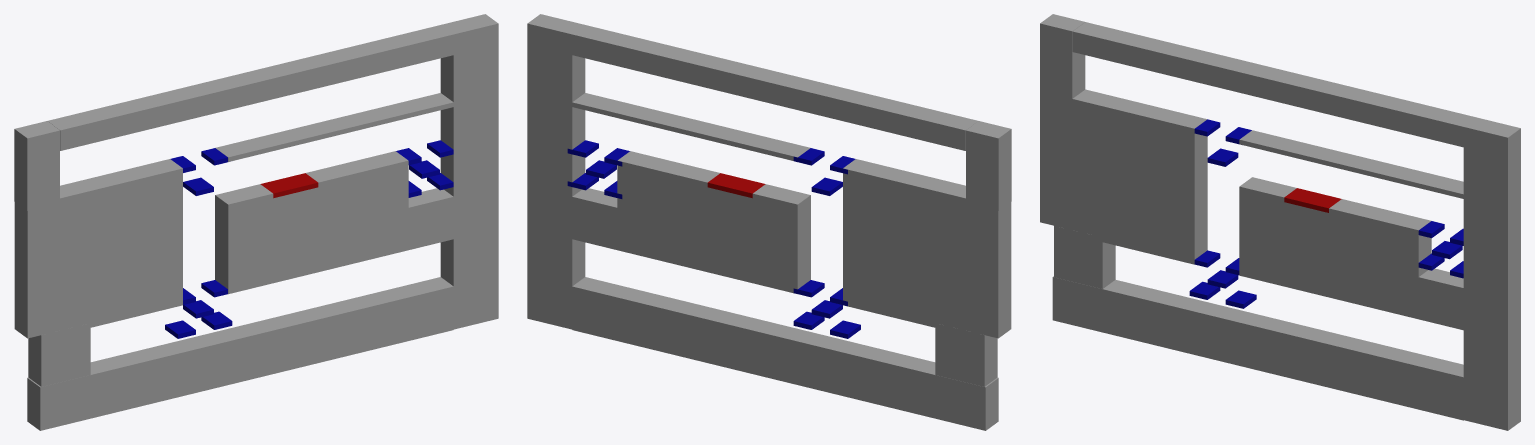
File: levelLayout.obj
3 views of the same model, side by side, from view 1: azimuth 30°, elevation 25°; view 2: azimuth 150°, elevation 25°; view 3: azimuth 330°, elevation 25° (orthographic).
Visible parts, largest first — view 1: Cube.003, Cube, Cube.013, Cube.006, Cube.007, Cube.016, Cube.005, Cube.001, Cube.008, Cube.010, Cube.012, Cube.011 (+3 smaller); view 2: Cube.003, Cube, Cube.013, Cube.006, Cube.007, Cube.016, Cube.005, Cube.001, Cube.008, Cube.010, Cube.014, Cube.012 (+3 smaller); view 3: Cube.003, Cube, Cube.007, Cube.006, Cube.013, Cube.016, Cube.005, Cube.001, Cube.008, Cube.010, Cube.012, Cube.011 (+2 smaller).
Part boxes in pixels (<box>): Cube.003: <box>14,159,182,338</box>; Cube: <box>27,277,453,430</box>; Cube.013: <box>215,166,404,294</box>; Cube.006: <box>47,14,498,150</box>; Cube.007: <box>440,44,498,329</box>; Cube.016: <box>215,93,453,161</box>; Cube.005: <box>14,121,59,210</box>; Cube.001: <box>28,323,90,386</box>; Cube.008: <box>404,188,458,246</box>; Cube.010: <box>305,152,403,187</box>; Cube.012: <box>215,184,273,209</box>; Cube.011: <box>260,173,318,198</box>; Cube.003: <box>843,159,1011,338</box>; Cube: <box>572,277,998,430</box>; Cube.013: <box>621,166,810,294</box>; Cube.006: <box>527,14,978,150</box>; Cube.007: <box>527,39,585,329</box>; Cube.016: <box>572,93,810,160</box>; Cube.005: <box>966,121,1011,210</box>; Cube.001: <box>935,323,997,386</box>; Cube.008: <box>572,188,621,247</box>; Cube.010: <box>622,152,720,187</box>; Cube.014: <box>572,236,793,292</box>; Cube.012: <box>752,184,810,209</box>; Cube.003: <box>1040,89,1207,259</box>; Cube: <box>1052,276,1463,420</box>; Cube.007: <box>1463,147,1520,430</box>; Cube.006: <box>1072,22,1520,157</box>; Cube.013: <box>1239,191,1414,318</box>; Cube.016: <box>1239,130,1463,198</box>; Cube.005: <box>1040,14,1085,103</box>; Cube.001: <box>1054,226,1115,288</box>; Cube.008: <box>1414,268,1467,326</box>; Cube.010: <box>1329,199,1426,233</box>; Cube.012: <box>1239,177,1296,201</box>; Cube.011: <box>1284,188,1341,212</box>.
Size of the model in its own units: 209 by 125 by 10.01.
